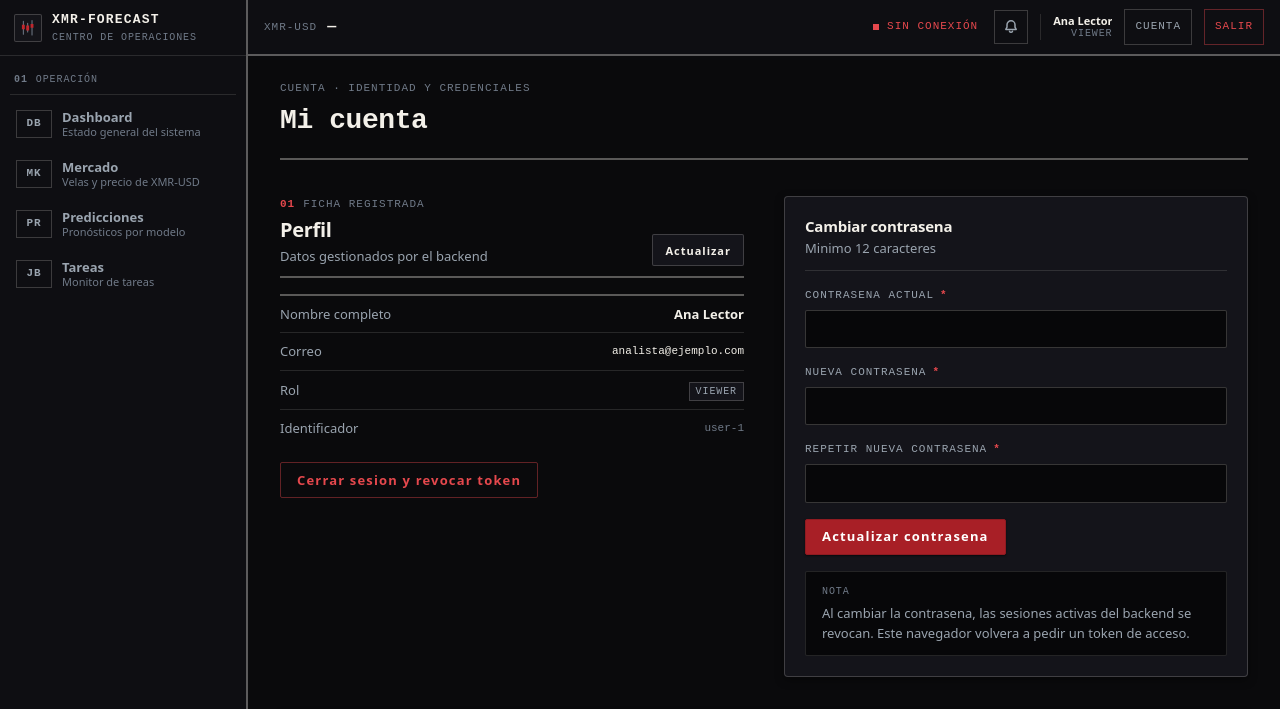
it: account password change › sends the change request to the backend
Type "vieja-larga-1234" into the password field labelled "Contrasena actual *" at (1016, 329), box left=805, top=310, right=1227, bottom=348
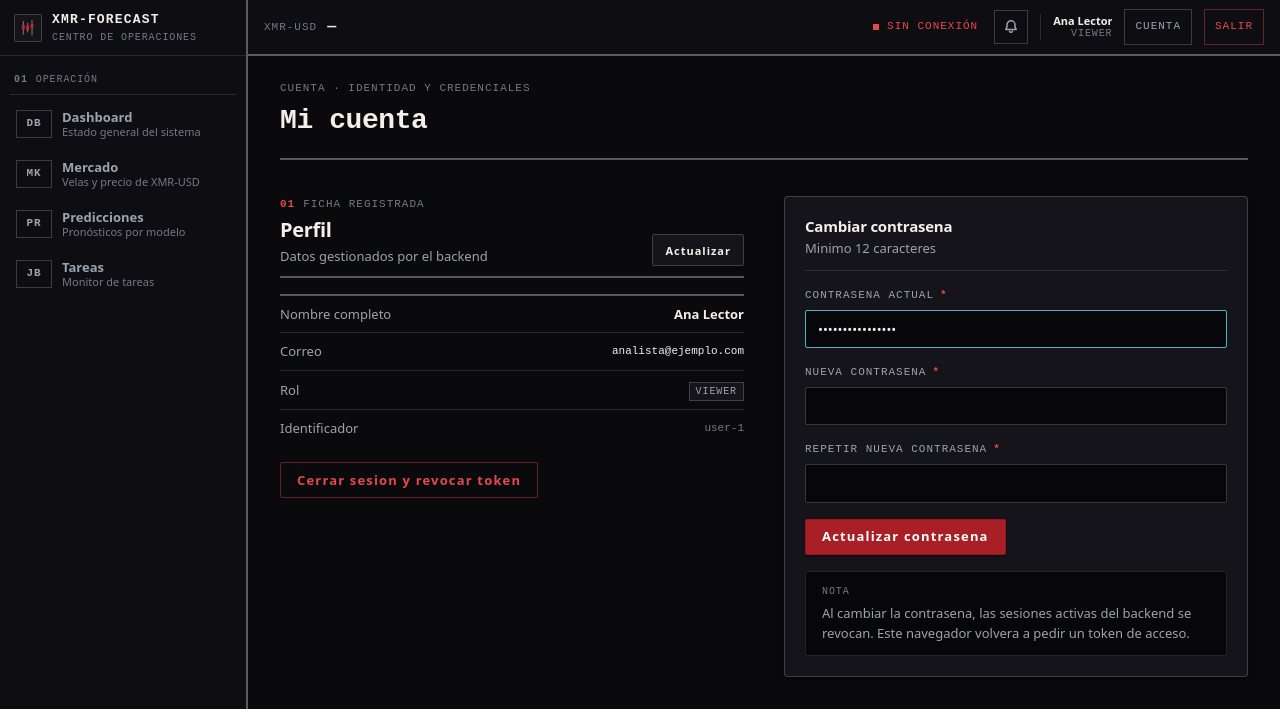
Type "nueva-larga-12345" into the password field labelled "Nueva contrasena *" at (1016, 406), box left=805, top=387, right=1227, bottom=425
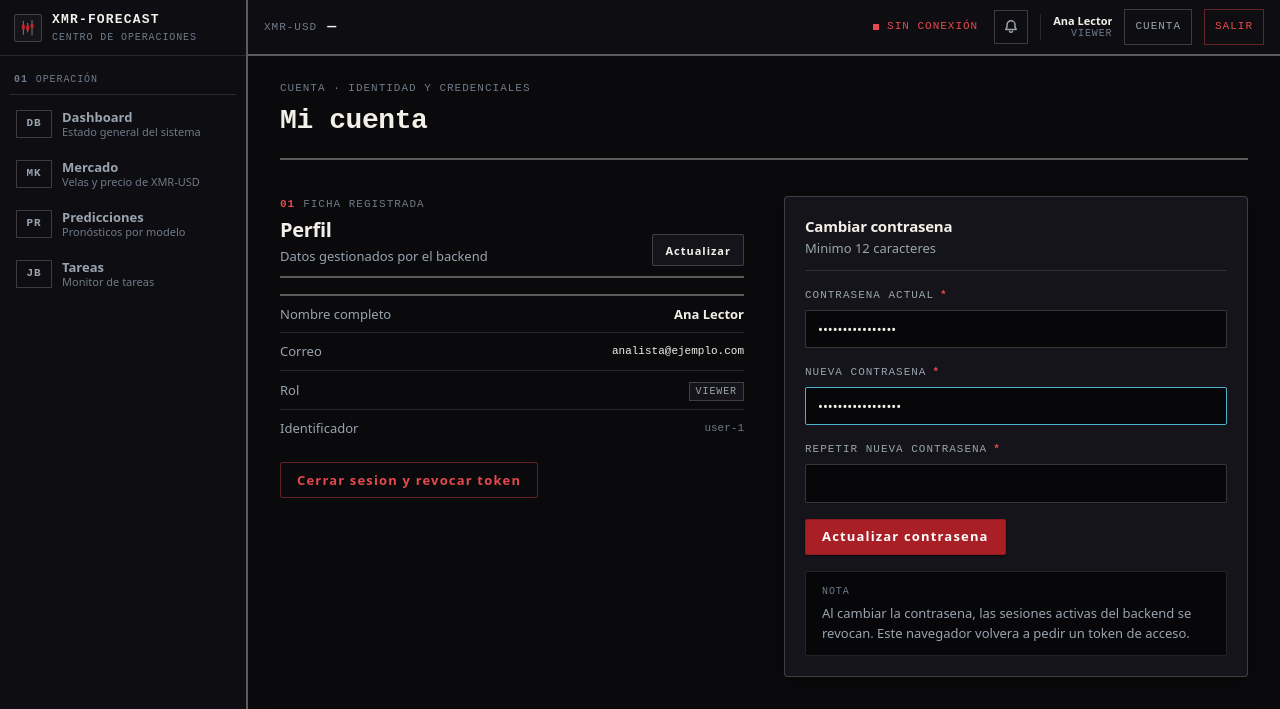
Type "nueva-larga-12345" into the password field labelled "Repetir nueva contrasena *" at (1016, 483), box left=805, top=464, right=1227, bottom=502
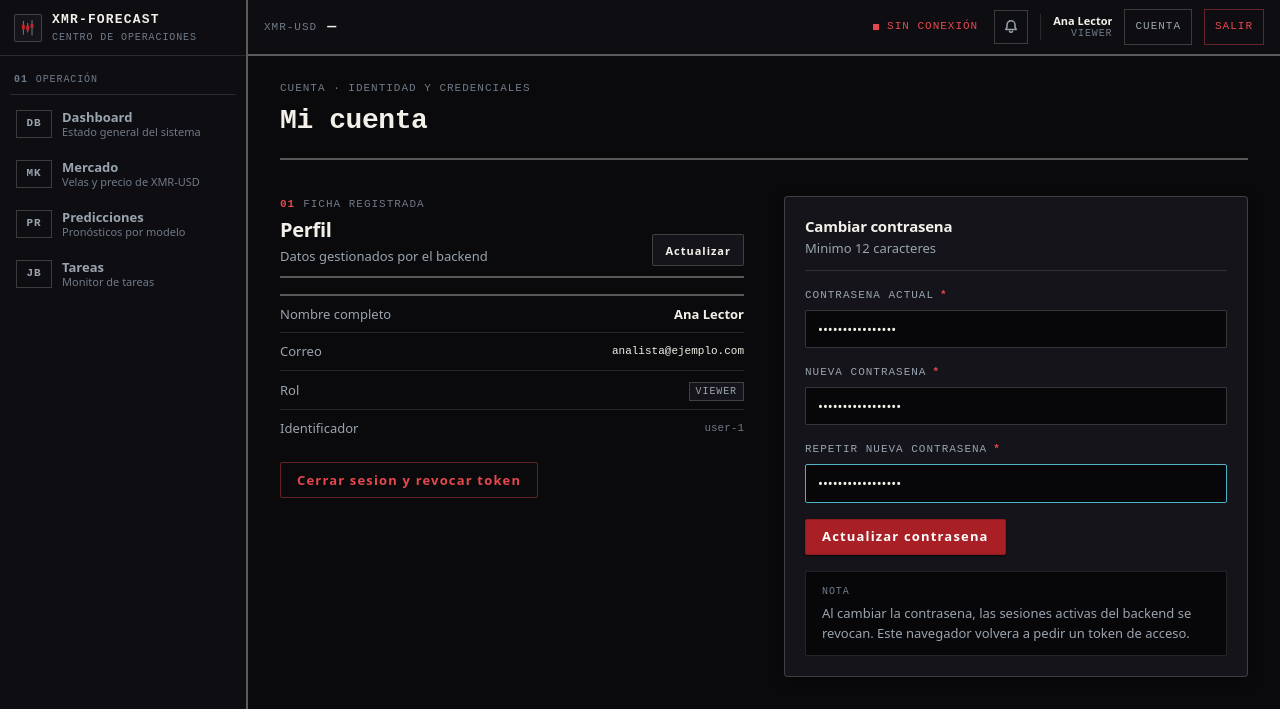
Click the button "Actualizar contrasena" at (905, 536), box left=805, top=518, right=1006, bottom=554
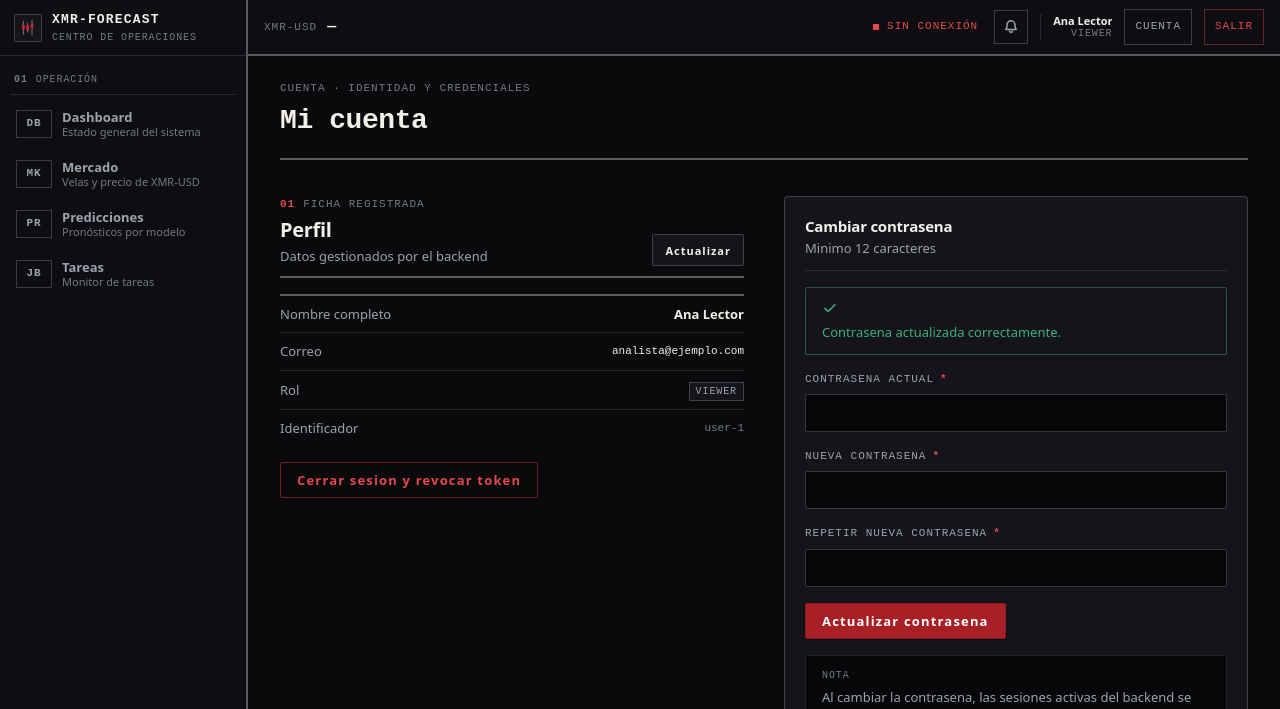
Expected: the text "Contrasena actualizada correctamente." is shown, left=822, top=323, right=1061, bottom=341
